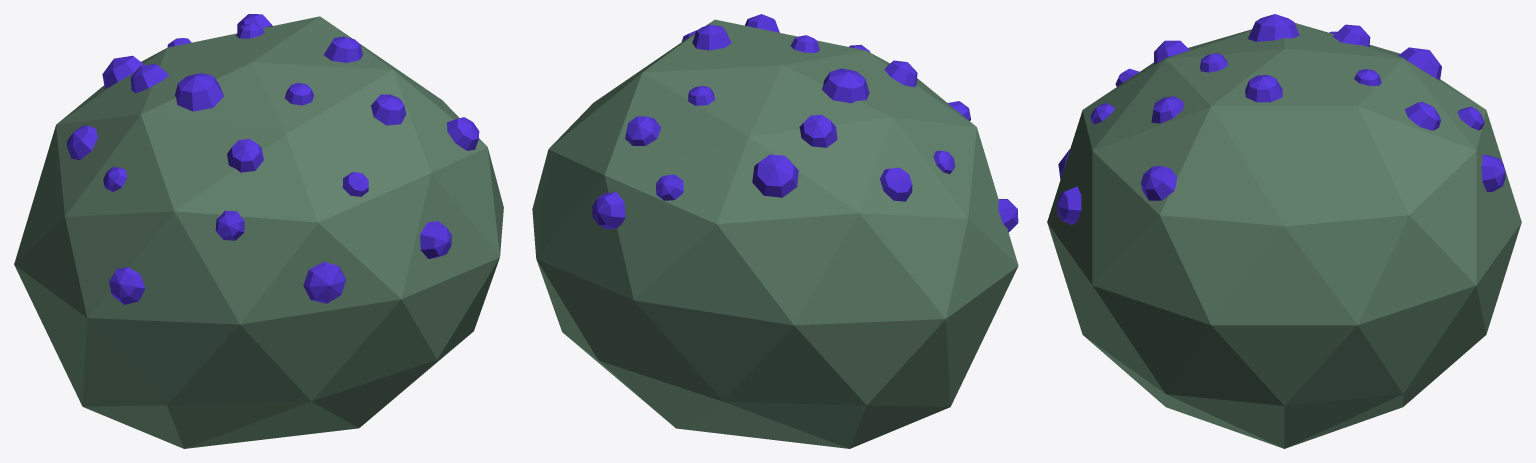
The model's file is Bush1.fbx.
3 renders of one model, left to right at view 1: azimuth 30°, elevation 25°; view 2: azimuth 150°, elevation 25°; view 3: azimuth 270°, elevation 25°, orthographic.
Visible parts, largest first — view 1: Bush1; view 2: Bush1; view 3: Bush1.
Boxes of the visible parts, x1=… form: Bush1: x1=14, y1=14, x2=503, y2=448; Bush1: x1=532, y1=14, x2=1018, y2=448; Bush1: x1=1047, y1=14, x2=1521, y2=448.
Bounding box in the file's own units: 44.98 × 35.77 × 44.3.
